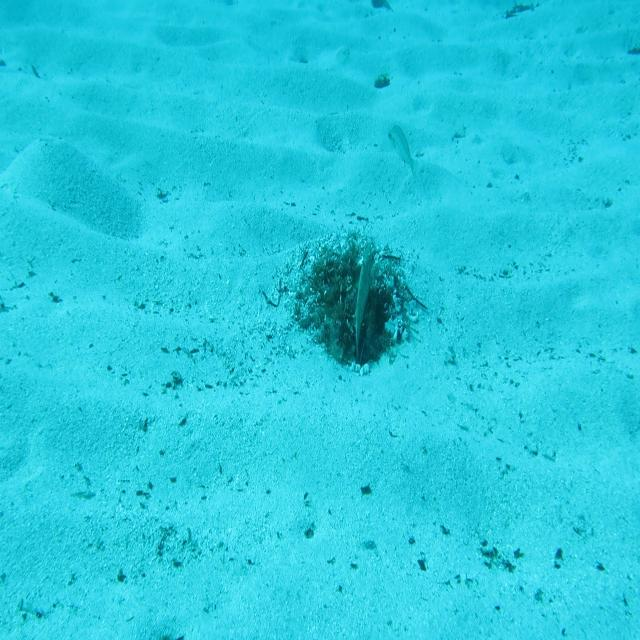H_UP: (341, 233, 380, 364)
female: (386, 120, 424, 181)
nest: (284, 236, 411, 381)
